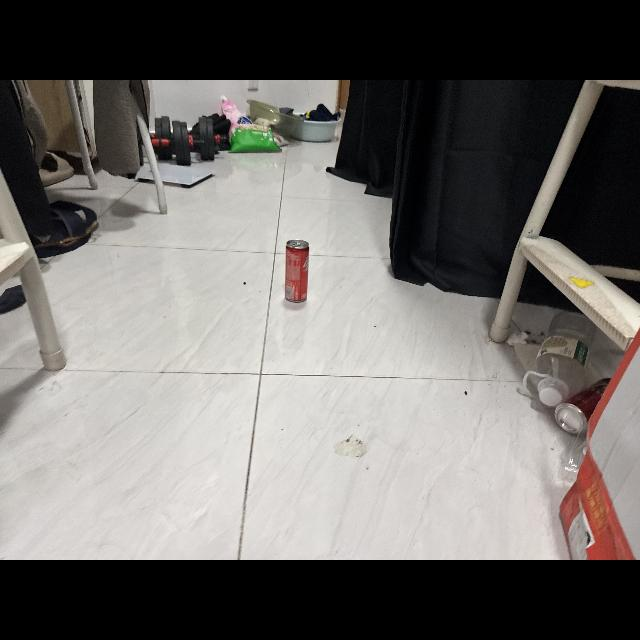Cola: (278, 236, 320, 306)
